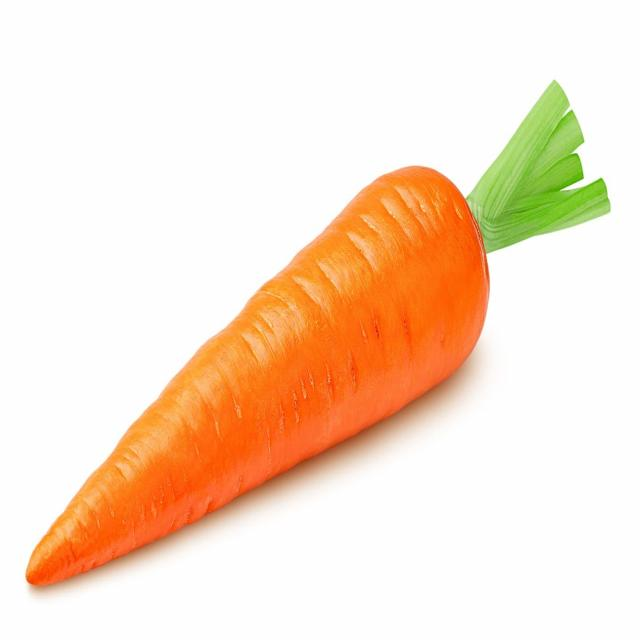Carrot: (35, 79, 618, 586)
